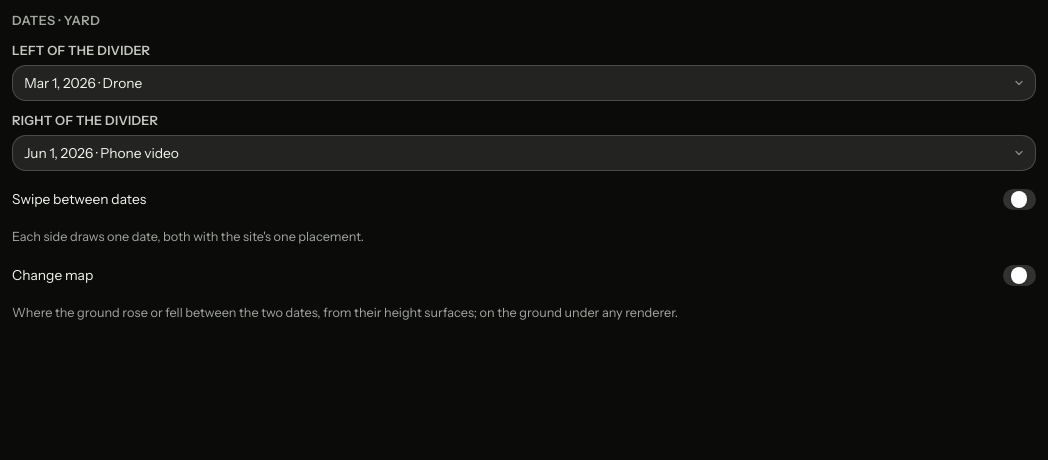
Scenario: the drape and its legend › says a refusal in words rather than drawing a blank drape
Click the switch named "Change map" in the row of "Change map" at point(1019, 276), box x1=1003 y1=265 x2=1036 y2=286
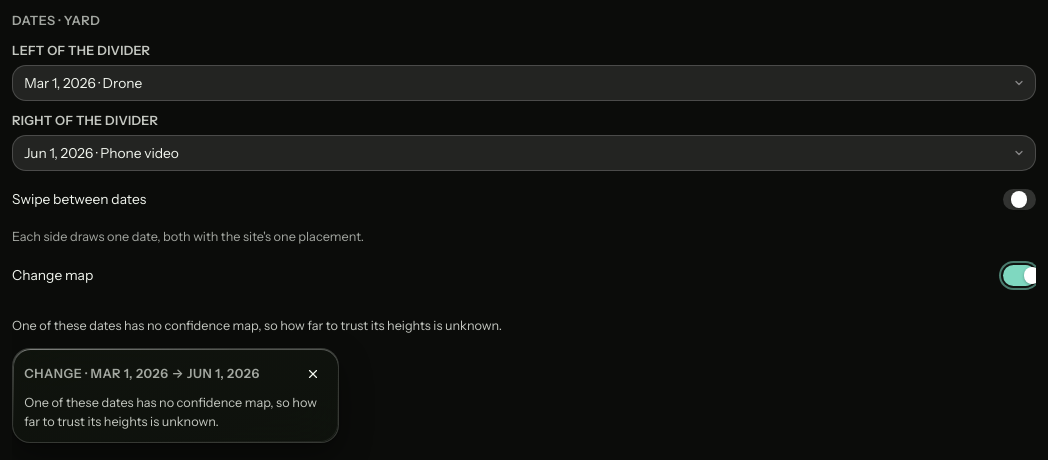
Check: the message with test id "change-drape-error" shows "no confidence map, so how far to trust its heights is unknown", box x1=24 y1=395 x2=317 y2=429
